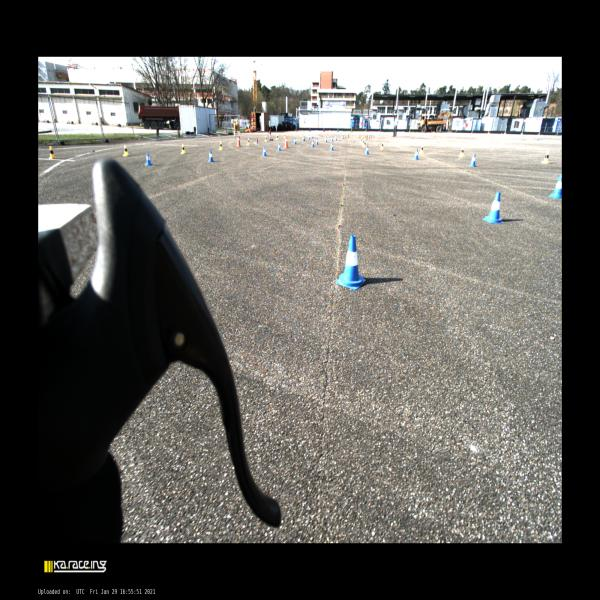blue_cone: (335, 235, 366, 290), (482, 193, 504, 224), (548, 174, 562, 199), (145, 152, 152, 166), (469, 154, 476, 166), (412, 148, 419, 160), (208, 150, 214, 162), (262, 146, 267, 156), (364, 146, 370, 154), (277, 143, 281, 151), (330, 143, 334, 150), (311, 140, 314, 147), (293, 138, 296, 144), (316, 139, 318, 144), (325, 137, 327, 142), (311, 134, 313, 139), (341, 135, 343, 140), (303, 136, 305, 140), (335, 136, 337, 140), (308, 135, 310, 139), (332, 136, 333, 140)
large_orange_cone: (284, 136, 289, 148), (237, 136, 241, 146)
yellow_cone: (540, 149, 550, 164), (49, 146, 57, 159), (123, 145, 129, 156), (459, 148, 464, 157), (181, 144, 185, 154), (219, 141, 223, 150), (420, 146, 424, 154), (247, 138, 250, 145), (380, 142, 383, 149), (265, 136, 267, 142), (364, 142, 366, 147), (362, 135, 363, 142), (361, 138, 362, 144), (363, 141, 364, 147), (277, 135, 278, 139), (284, 134, 285, 138)
